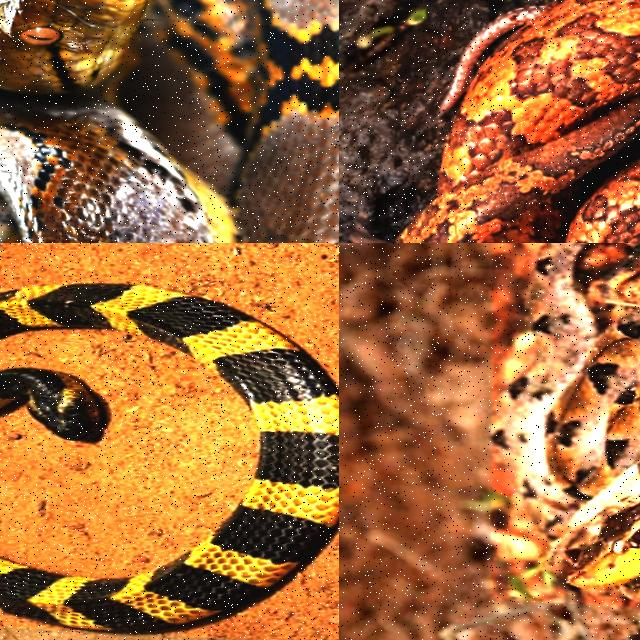Bungarus fasciatus: (0, 283, 338, 632)
Calloselasma rhodostoma: (492, 243, 639, 600)
Malayopython reticulatus: (0, 0, 338, 242)
Ovophis monticola: (399, 0, 639, 242)
snake: (0, 283, 338, 632), (0, 0, 338, 242), (399, 0, 639, 242), (492, 243, 639, 600)
